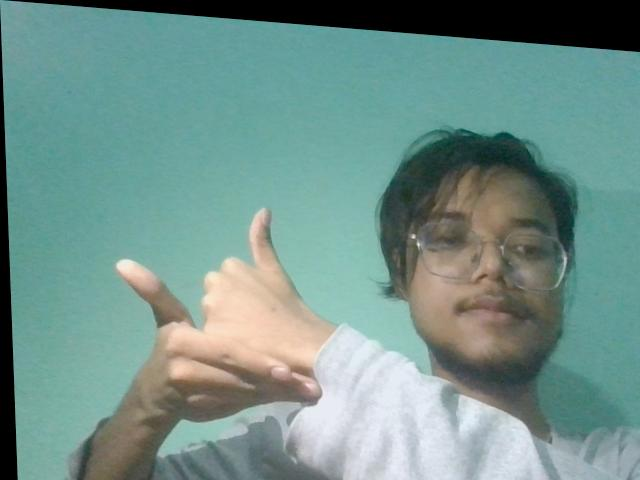help: (81, 184, 359, 439)
